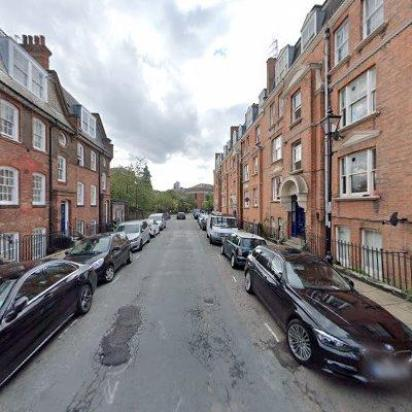moving-car: (176, 212, 186, 220)
stationary-car-onstreet: (242, 243, 412, 391), (0, 256, 100, 392), (61, 232, 133, 286), (221, 231, 267, 270), (112, 219, 150, 248), (141, 218, 159, 238), (149, 213, 167, 230)
stationary-light-truck-onstreet: (206, 214, 238, 246)
